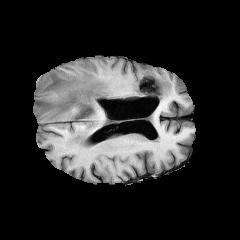glioma: (34, 70, 171, 146)
